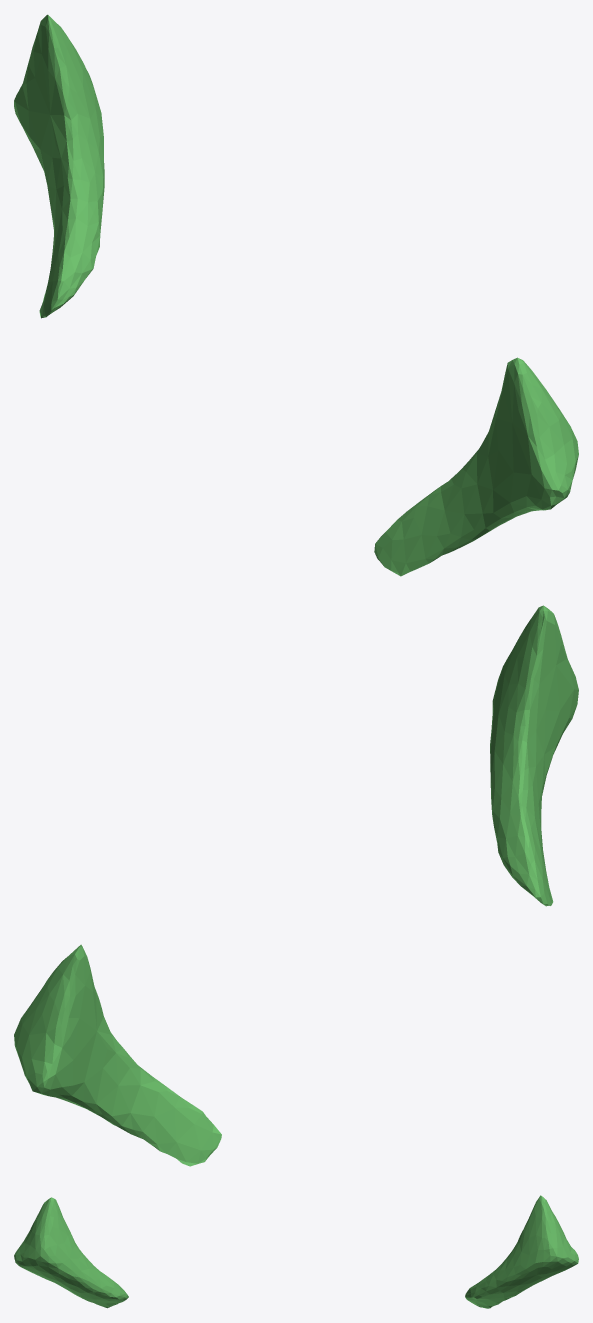
3 renders of one model, top to bottom at view 1: azimuth 30°, elevation 25°; view 2: azimuth 150°, elevation 25°; view 3: azimuth 270°, elevation 25°, orthographic. The views are drawn at different scales.
Visible parts, largest first — view 1: 484682508.obj; view 2: 484682508.obj; view 3: 484682508.obj.
Part boxes in pixels (x1=…): 484682508.obj: x1=14, y1=14, x2=578, y2=576; 484682508.obj: x1=14, y1=605, x2=578, y2=1166; 484682508.obj: x1=14, y1=1195, x2=578, y2=1308.
Size of the model in its own units: 754 by 1436 by 5718.
